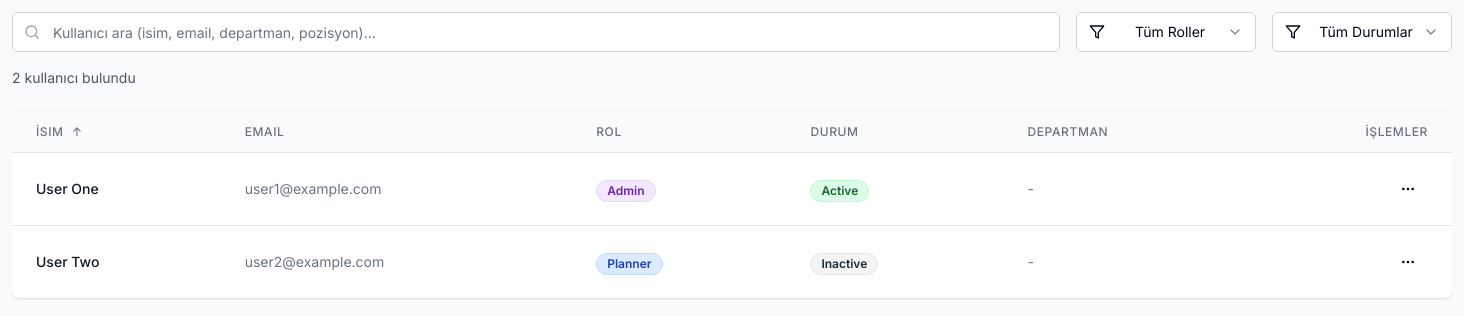
Scenario: UserList › should filter users by search term
In the field with placeholder "Kullanıcı ara (isim, email, departman, pozisyon)...": (536, 32) [12,12,1060,52], type "One"
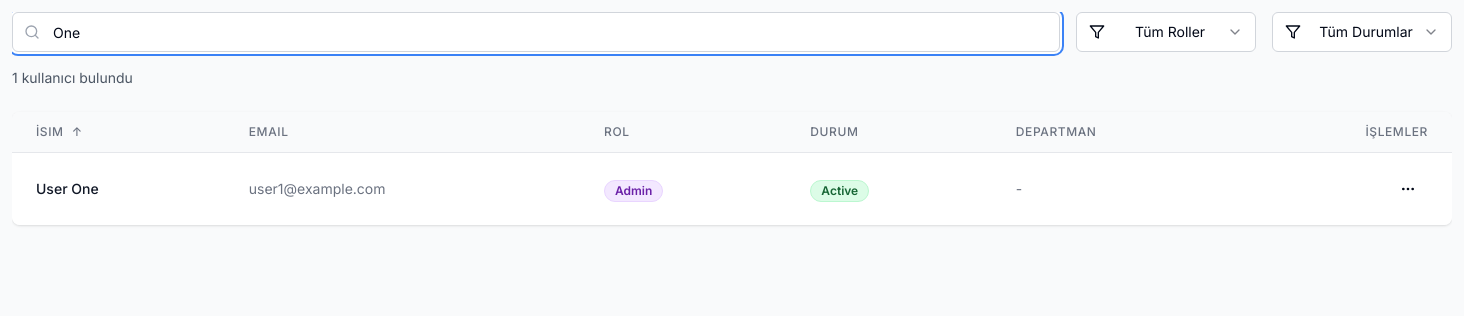
Expected: the text "User One" is shown, [12,152,225,225]
Expected: the text "User Two" is gone
